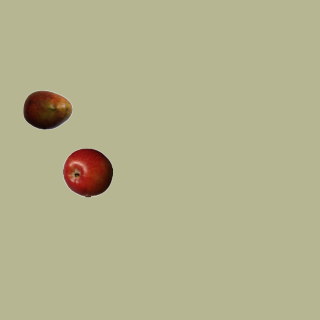Apple Braeburn: (62, 147, 112, 197)
Mango Red: (22, 84, 72, 134)
